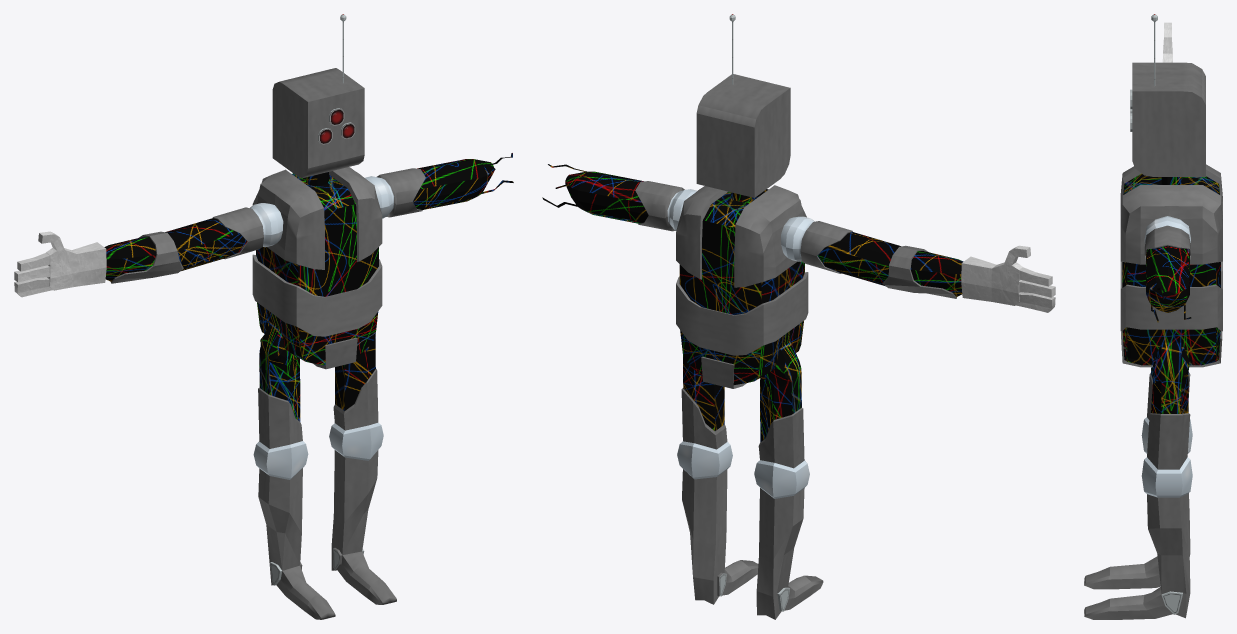
The model's file is RobotModelV1_V3.obj.
3 renders of one model, left to right at view 1: azimuth 30°, elevation 25°; view 2: azimuth 150°, elevation 25°; view 3: azimuth 270°, elevation 25°, orthographic. The views are drawn at different scales.
Parts seen in each view (by area): view 1: pCube1; view 2: pCube1; view 3: pCube1.
Boxes of the visible parts, <box> form: pCube1: <box>14,14,513,619</box>; pCube1: <box>542,14,1055,619</box>; pCube1: <box>1084,14,1222,619</box>.
Size of the model in its own units: 14.47 by 15.87 by 3.36.
